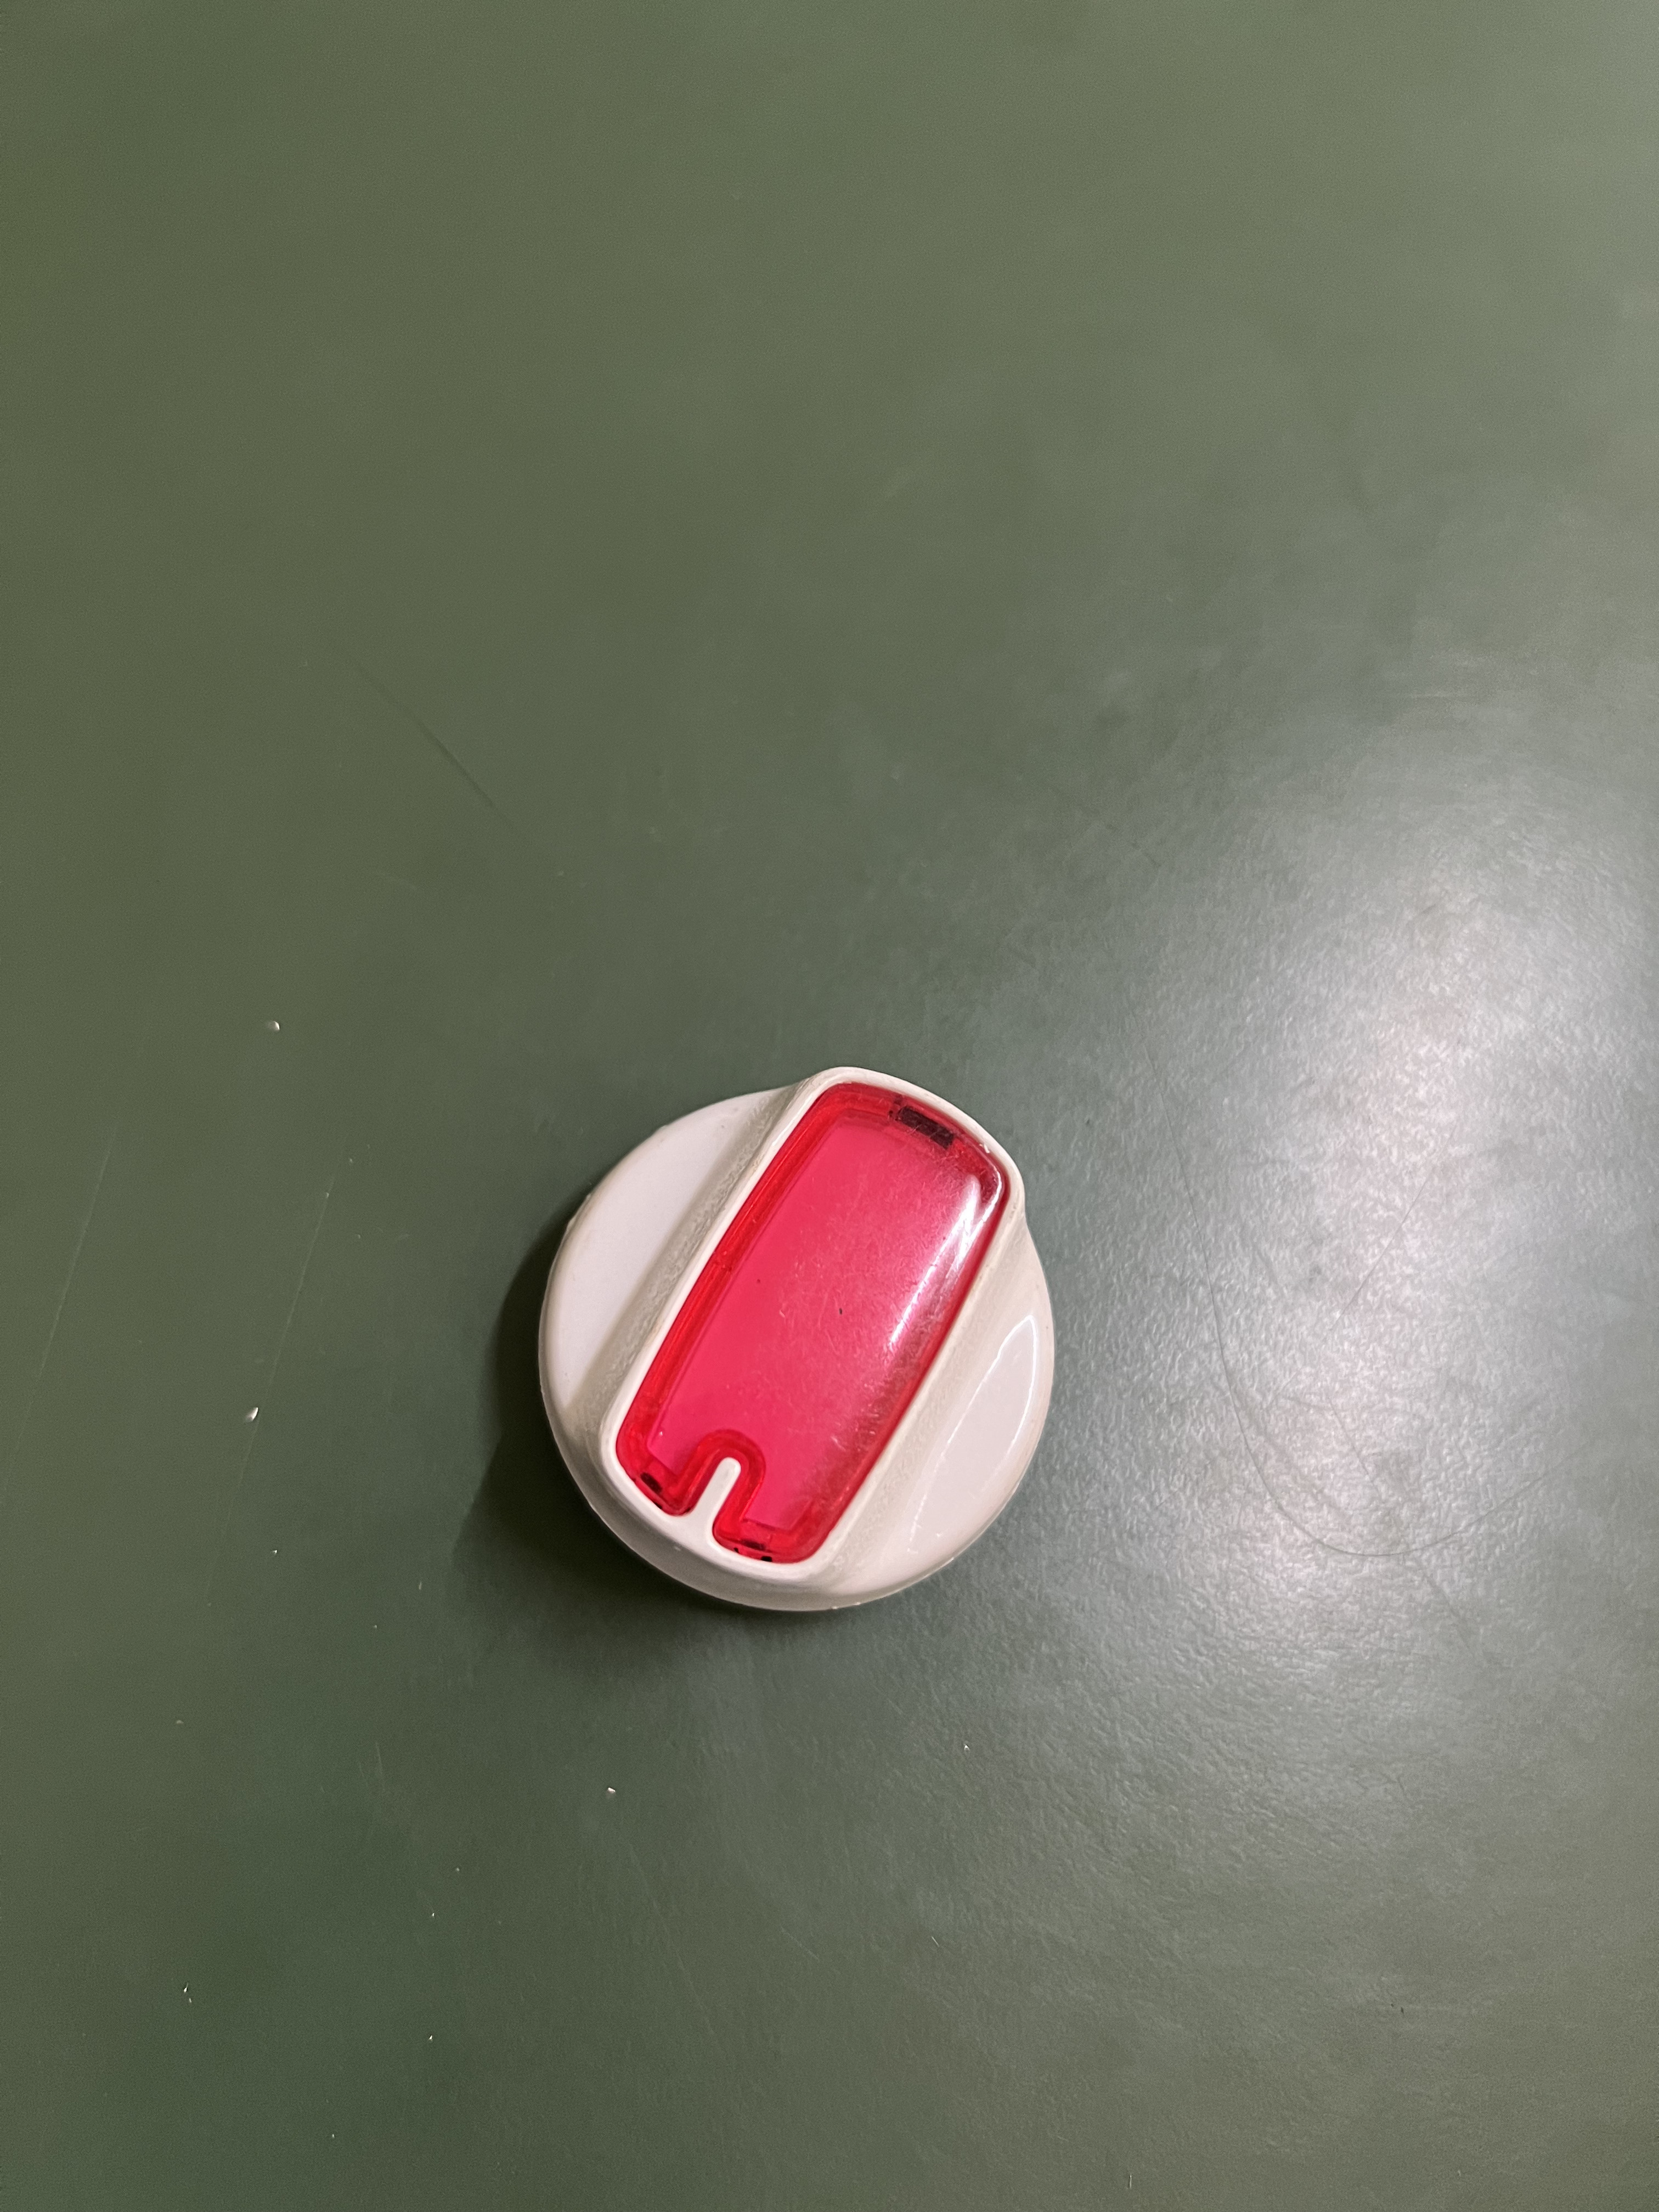regulator: (481, 1017, 1124, 1681)
